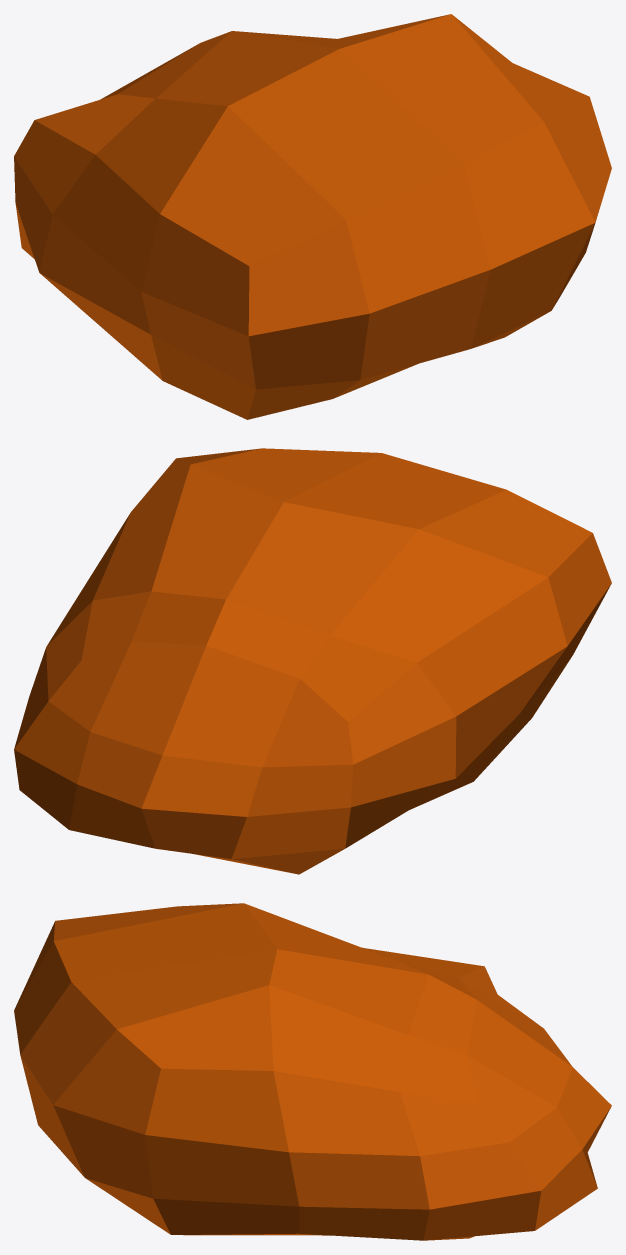
The model's file is Stone1_orange.fbx.
3 views of the same model, one above another, from view 1: azimuth 30°, elevation 25°; view 2: azimuth 150°, elevation 25°; view 3: azimuth 270°, elevation 25° (orthographic). The views are drawn at different scales.
Visible parts, largest first — view 1: Stone1_orange; view 2: Stone1_orange; view 3: Stone1_orange.
Boxes of the visible parts, x1,y1,x2,y2 form: Stone1_orange: (14,14,611,419); Stone1_orange: (14,448,611,874); Stone1_orange: (14,903,611,1240).
Bounding box in the file's own units: 310 × 214 × 392.
